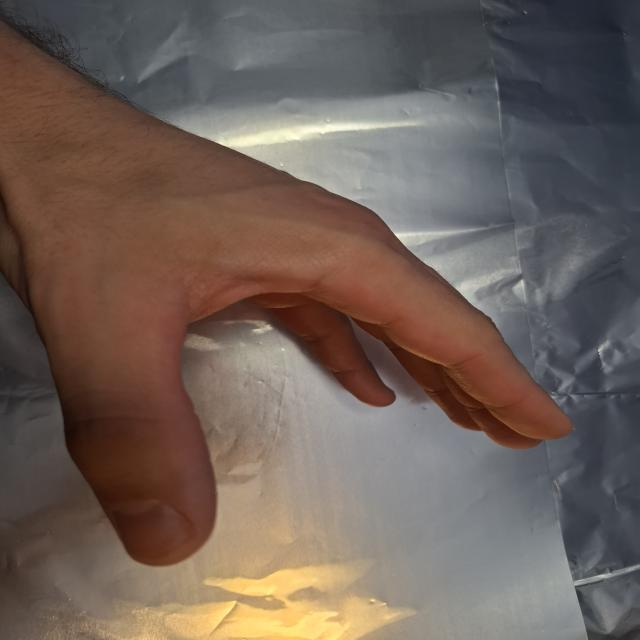glove_off: (0, 112, 578, 570)
